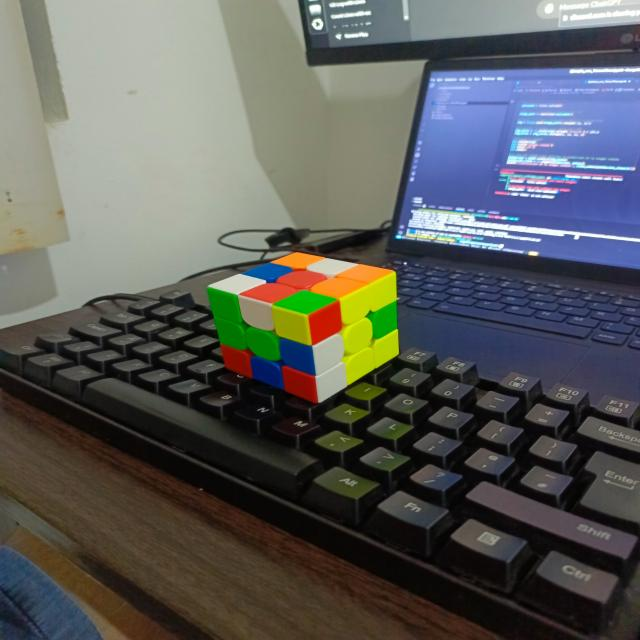rubik: (205, 250, 401, 403)
